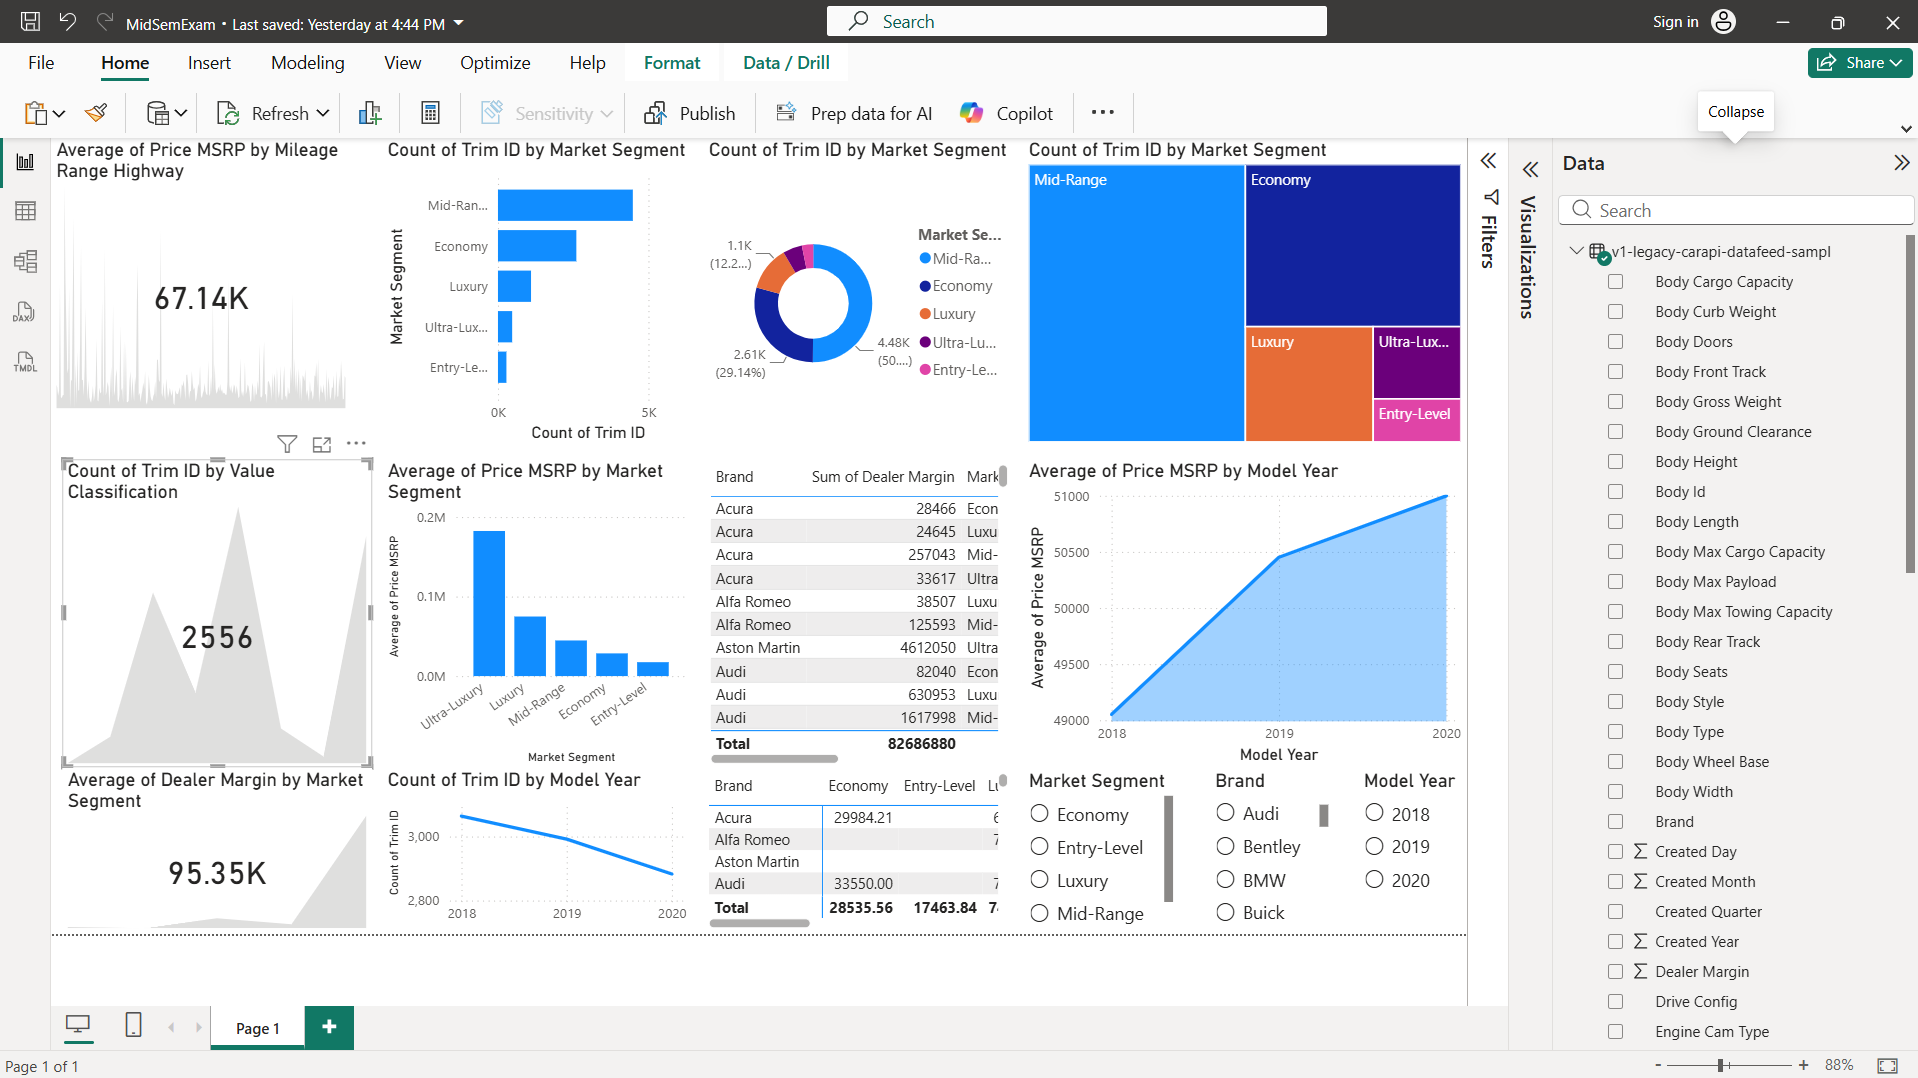

The page's visual inventory and layout, read from the dashboard file:
{"tool":"powerbi","page":{"name":"Page 1","canvas":[1280,720],"ordinal":0},"visuals":[{"type":"kpi","fields":{"Indicator":["Avg(v1-legacy-carapi-datafeed-sampl.Price MSRP)"],"TrendLine":["v1-legacy-carapi-datafeed-sampl.Mileage Range Highway"]},"box":[0,0,271.5,249.5],"z":0},{"type":"kpi","fields":{"Indicator":["CountNonNull(v1-legacy-carapi-datafeed-sampl.Trim ID)"],"TrendLine":["v1-legacy-carapi-datafeed-sampl.Value Classification"]},"box":[10,290,280,280],"z":1000},{"type":"kpi","fields":{"Indicator":["Avg(v1-legacy-carapi-datafeed-sampl.Dealer Margin)"],"TrendLine":["v1-legacy-carapi-datafeed-sampl.Market Segment"]},"box":[10,570,280,150],"z":2000},{"type":"clusteredBarChart","fields":{"Category":["v1-legacy-carapi-datafeed-sampl.Market Segment","v1-legacy-carapi-datafeed-sampl.Brand"],"Y":["CountNonNull(v1-legacy-carapi-datafeed-sampl.Trim ID)"]},"box":[300,0,280,280],"z":3000},{"type":"clusteredColumnChart","fields":{"Category":["v1-legacy-carapi-datafeed-sampl.Market Segment"],"Y":["Avg(v1-legacy-carapi-datafeed-sampl.Price MSRP)"]},"box":[300,290,280,280],"z":4000},{"type":"lineChart","fields":{"Category":["v1-legacy-carapi-datafeed-sampl.Model Year"],"Y":["CountNonNull(v1-legacy-carapi-datafeed-sampl.Trim ID)"]},"box":[300,570,280,150],"z":5000},{"type":"donutChart","fields":{"Category":["v1-legacy-carapi-datafeed-sampl.Market Segment"],"Y":["CountNonNull(v1-legacy-carapi-datafeed-sampl.Trim ID)"]},"box":[590,0,280,280],"z":6000},{"type":"tableEx","fields":{"Values":["v1-legacy-carapi-datafeed-sampl.Brand","Sum(v1-legacy-carapi-datafeed-sampl.Dealer Margin)","v1-legacy-carapi-datafeed-sampl.Market Segment","Sum(v1-legacy-carapi-datafeed-sampl.Model Year)","Sum(v1-legacy-carapi-datafeed-sampl.Price MSRP)"]},"box":[590,290,280,280],"z":7000},{"type":"pivotTable","fields":{"Rows":["v1-legacy-carapi-datafeed-sampl.Brand"],"Columns":["v1-legacy-carapi-datafeed-sampl.Market Segment"],"Values":["Avg(v1-legacy-carapi-datafeed-sampl.Price MSRP)"]},"box":[590,570,280,150],"z":8000},{"type":"treemap","fields":{"Group":["v1-legacy-carapi-datafeed-sampl.Market Segment"],"Values":["CountNonNull(v1-legacy-carapi-datafeed-sampl.Trim ID)"]},"box":[879.6,0,400.5,279.9],"z":9000},{"type":"areaChart","fields":{"Category":["v1-legacy-carapi-datafeed-sampl.Model Year"],"Y":["Avg(v1-legacy-carapi-datafeed-sampl.Price MSRP)"]},"box":[879.6,290.4,400.5,279.9],"z":10000},{"type":"listSlicer","fields":{"Values":["v1-legacy-carapi-datafeed-sampl.Brand"]},"box":[1047.3,570.3,112.2,149.9],"z":11000},{"type":"listSlicer","fields":{"Values":["v1-legacy-carapi-datafeed-sampl.Market Segment"]},"box":[879.6,570.3,140.5,149.9],"z":12000},{"type":"listSlicer","fields":{"Values":["v1-legacy-carapi-datafeed-sampl.Model Year"]},"box":[1181.5,570.3,98.5,149.9],"z":13000}]}

Visuals, with their boxes on the page's 1280x720 design canvas (x1, y1, x2, y2). These are canvas units, not pixel positions in the 1918x1078 screenshot, which may show the page scaled, cropped or inside an application window:
kpi - Avg(v1-legacy-carapi-datafeed-sampl.Price MSRP) x v1-legacy-carapi-datafeed-sampl.Mileage Range Highway: <bbox>0, 0, 272, 250</bbox>
kpi - CountNonNull(v1-legacy-carapi-datafeed-sampl.Trim ID) x v1-legacy-carapi-datafeed-sampl.Value Classification: <bbox>10, 290, 290, 570</bbox>
kpi - Avg(v1-legacy-carapi-datafeed-sampl.Dealer Margin) x v1-legacy-carapi-datafeed-sampl.Market Segment: <bbox>10, 570, 290, 720</bbox>
clusteredBarChart - v1-legacy-carapi-datafeed-sampl.Market Segment x v1-legacy-carapi-datafeed-sampl.Brand: <bbox>300, 0, 580, 280</bbox>
clusteredColumnChart - v1-legacy-carapi-datafeed-sampl.Market Segment x Avg(v1-legacy-carapi-datafeed-sampl.Price MSRP): <bbox>300, 290, 580, 570</bbox>
lineChart - v1-legacy-carapi-datafeed-sampl.Model Year x CountNonNull(v1-legacy-carapi-datafeed-sampl.Trim ID): <bbox>300, 570, 580, 720</bbox>
donutChart - v1-legacy-carapi-datafeed-sampl.Market Segment x CountNonNull(v1-legacy-carapi-datafeed-sampl.Trim ID): <bbox>590, 0, 870, 280</bbox>
tableEx - v1-legacy-carapi-datafeed-sampl.Brand x Sum(v1-legacy-carapi-datafeed-sampl.Dealer Margin): <bbox>590, 290, 870, 570</bbox>
pivotTable - v1-legacy-carapi-datafeed-sampl.Brand x v1-legacy-carapi-datafeed-sampl.Market Segment: <bbox>590, 570, 870, 720</bbox>
treemap - v1-legacy-carapi-datafeed-sampl.Market Segment x CountNonNull(v1-legacy-carapi-datafeed-sampl.Trim ID): <bbox>880, 0, 1280, 280</bbox>
areaChart - v1-legacy-carapi-datafeed-sampl.Model Year x Avg(v1-legacy-carapi-datafeed-sampl.Price MSRP): <bbox>880, 290, 1280, 570</bbox>
listSlicer - v1-legacy-carapi-datafeed-sampl.Brand: <bbox>1047, 570, 1160, 720</bbox>
listSlicer - v1-legacy-carapi-datafeed-sampl.Market Segment: <bbox>880, 570, 1020, 720</bbox>
listSlicer - v1-legacy-carapi-datafeed-sampl.Model Year: <bbox>1182, 570, 1280, 720</bbox>
